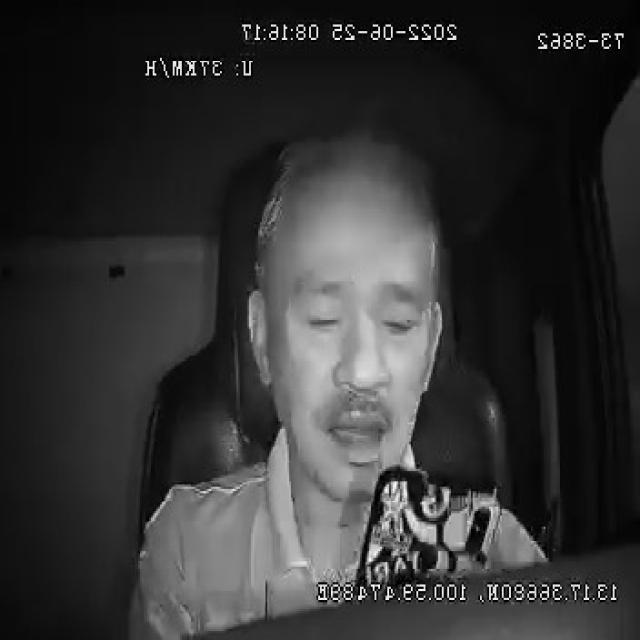phone: (354, 466, 503, 584)
